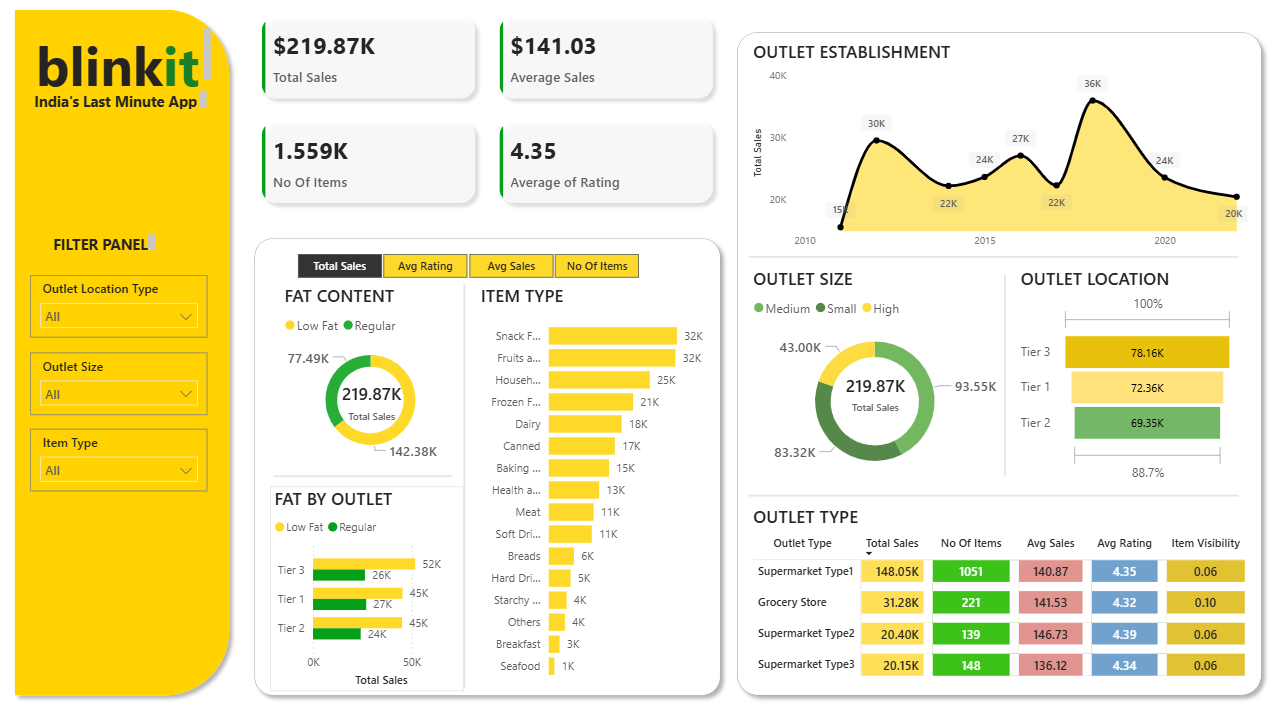

This screenshot's page, from the dashboard's own definition file:
{"tool":"powerbi","page":{"name":"Page 1","canvas":[1400,800],"ordinal":0},"visuals":[{"type":"shape","box":[12.2,17.7,251.4,763.6],"z":0},{"type":"textbox","box":[35.3,42.1,203.8,82.9],"z":1000},{"type":"textbox","box":[38,110.1,197,29.9],"z":2000},{"type":"cardVisual","fields":{"Data":["BlinkIT Grocery Data.Total Sales","Avg(BlinkIT Grocery Data.Sales)","CountNonNull(BlinkIT Grocery Data.Item Identifier)","Avg(BlinkIT Grocery Data.Rating)"]},"box":[273.1,17.7,524.5,237.8],"z":3000},{"type":"shape","box":[273.1,266.3,524.5,514.9],"z":4000},{"type":"donutChart","title":"FAT CONTENT","fields":{"Y":["BlinkIT Grocery Data.Total Sales"],"Category":["BlinkIT Grocery Data.Item Fat Content"]},"box":[309.5,325,197,198.4],"z":5000},{"type":"slicer","fields":{"Values":["Metrics.Metrics"]},"box":[302.7,285.6,421.2,39.4],"z":6000},{"type":"card","fields":{"Values":["BlinkIT Grocery Data.Total Sales"]},"box":[365.2,424.2,88.3,58.4],"z":7000},{"type":"clusteredBarChart","title":"FAT BY OUTLET","fields":{"Y":["BlinkIT Grocery Data.Total Sales"],"Category":["BlinkIT Grocery Data.Outlet Location Type"],"Series":["BlinkIT Grocery Data.Item Fat Content"]},"box":[298.9,544.8,210.6,222.8],"z":8000},{"type":"shape","box":[302.7,523.4,194.3,21.7],"z":9000},{"type":"shape","box":[497,325,25.8,440.2],"z":10000},{"type":"barChart","title":"ITEM TYPE","fields":{"Y":["BlinkIT Grocery Data.Total Sales"],"Category":["BlinkIT Grocery Data.Item Type"]},"box":[522.8,325,264.9,440.2],"z":11000},{"type":"shape","box":[797.6,42.1,588.3,739.1],"z":12000},{"type":"lineChart","title":"OUTLET ESTABLISHMENT","fields":{"Category":["BlinkIT Grocery Data.Outlet Establishment Year"],"Y":["BlinkIT Grocery Data.Total Sales"]},"box":[819.3,59.8,547.6,235.1],"z":13000},{"type":"shape","box":[819.3,285.3,532.6,20.4],"z":14000},{"type":"donutChart","title":"OUTLET SIZE","fields":{"Y":["BlinkIT Grocery Data.Total Sales"],"Category":["BlinkIT Grocery Data.Outlet Size"]},"box":[819.3,305.7,274.5,239.1],"z":15000},{"type":"card","fields":{"Values":["BlinkIT Grocery Data.Total Sales"]},"box":[907.6,411.7,99.2,63.9],"z":16000},{"type":"shape","box":[1085.6,315.2,24.5,218.8],"z":17000},{"type":"funnel","title":"OUTLET LOCATION","fields":{"Category":["BlinkIT Grocery Data.Outlet Location Type"],"Y":["Sum(BlinkIT Grocery Data.Sales)"]},"box":[1110.1,305.7,241.8,239.1],"z":18000},{"type":"shape","box":[819.3,544.8,532.6,20.4],"z":19000},{"type":"pivotTable","title":"OUTLET TYPE","fields":{"Rows":["BlinkIT Grocery Data.Outlet Type"],"Values":["BlinkIT Grocery Data.Total Sales","BlinkIT Grocery Data.No Of Items","BlinkIT Grocery Data.Avg Sales","BlinkIT Grocery Data.Avg Rating","Avg(BlinkIT Grocery Data.Item Visibility)"]},"box":[819.3,565.2,547.6,199.7],"z":20000},{"type":"slicer","fields":{"Values":["BlinkIT Grocery Data.Outlet Location Type"]},"box":[38,315.2,192.9,67.9],"z":21000},{"type":"slicer","fields":{"Values":["BlinkIT Grocery Data.Outlet Size"]},"box":[38,399.5,192.9,67.9],"z":22000},{"type":"slicer","fields":{"Values":["BlinkIT Grocery Data.Item Type"]},"box":[38,482.3,192.9,67.9],"z":23000},{"type":"textbox","box":[58.4,266.3,120.9,28.5],"z":24000}]}

Visuals, with their boxes in screenshot pixels (x1, y1, x2, y2), scaled from the page's 1400x800 canvas onto the 1274x707 screenshot:
shape: [x1=11, y1=16, x2=240, y2=690]
textbox: [x1=32, y1=37, x2=218, y2=110]
textbox: [x1=35, y1=97, x2=214, y2=124]
cardVisual - BlinkIT Grocery Data.Total Sales x Avg(BlinkIT Grocery Data.Sales): [x1=249, y1=16, x2=726, y2=226]
shape: [x1=249, y1=235, x2=726, y2=690]
"FAT CONTENT" donutChart: [x1=282, y1=287, x2=461, y2=463]
slicer - Metrics.Metrics: [x1=275, y1=252, x2=659, y2=287]
card - BlinkIT Grocery Data.Total Sales: [x1=332, y1=375, x2=413, y2=426]
"FAT BY OUTLET" clusteredBarChart: [x1=272, y1=481, x2=464, y2=678]
shape: [x1=275, y1=463, x2=452, y2=482]
shape: [x1=452, y1=287, x2=476, y2=676]
"ITEM TYPE" barChart: [x1=476, y1=287, x2=717, y2=676]
shape: [x1=726, y1=37, x2=1261, y2=690]
"OUTLET ESTABLISHMENT" lineChart: [x1=746, y1=53, x2=1244, y2=261]
shape: [x1=746, y1=252, x2=1230, y2=270]
"OUTLET SIZE" donutChart: [x1=746, y1=270, x2=995, y2=481]
card - BlinkIT Grocery Data.Total Sales: [x1=826, y1=364, x2=916, y2=420]
shape: [x1=988, y1=279, x2=1010, y2=472]
"OUTLET LOCATION" funnel: [x1=1010, y1=270, x2=1230, y2=481]
shape: [x1=746, y1=481, x2=1230, y2=499]
"OUTLET TYPE" pivotTable: [x1=746, y1=499, x2=1244, y2=676]
slicer - BlinkIT Grocery Data.Outlet Location Type: [x1=35, y1=279, x2=210, y2=339]
slicer - BlinkIT Grocery Data.Outlet Size: [x1=35, y1=353, x2=210, y2=413]
slicer - BlinkIT Grocery Data.Item Type: [x1=35, y1=426, x2=210, y2=486]
textbox: [x1=53, y1=235, x2=163, y2=261]
